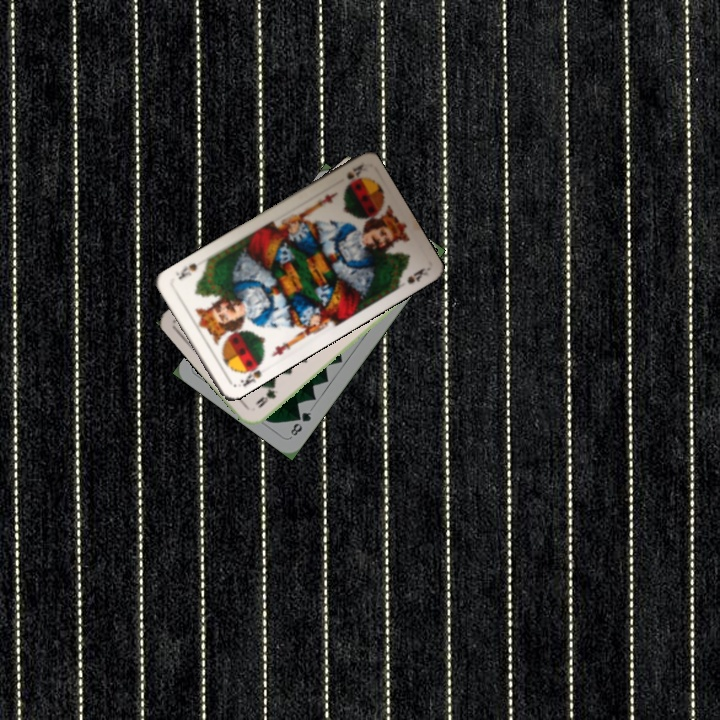G8: (286, 408, 314, 439)
G9: (251, 382, 279, 411)
SK: (236, 359, 264, 389), (342, 161, 367, 182)
